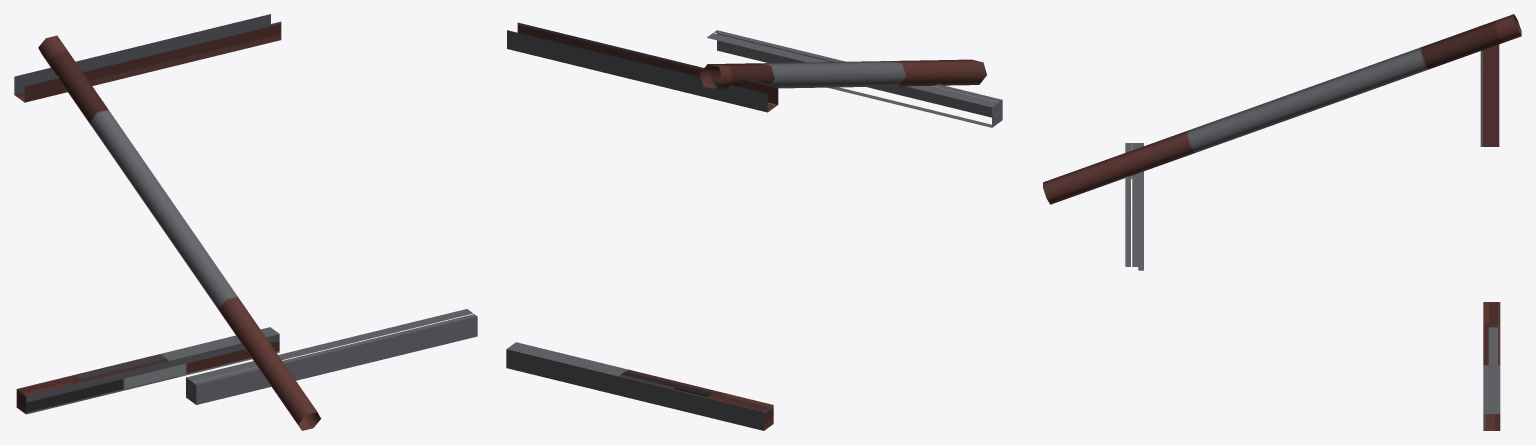
Rendered from section-0.obj.
3 renders of one model, left to right at view 1: azimuth 30°, elevation 25°; view 2: azimuth 150°, elevation 25°; view 3: azimuth 270°, elevation 25°, orthographic. The views are drawn at different scales.
Bounding box in the file's own units: 0.9146 × 1.1 × 1.53.
